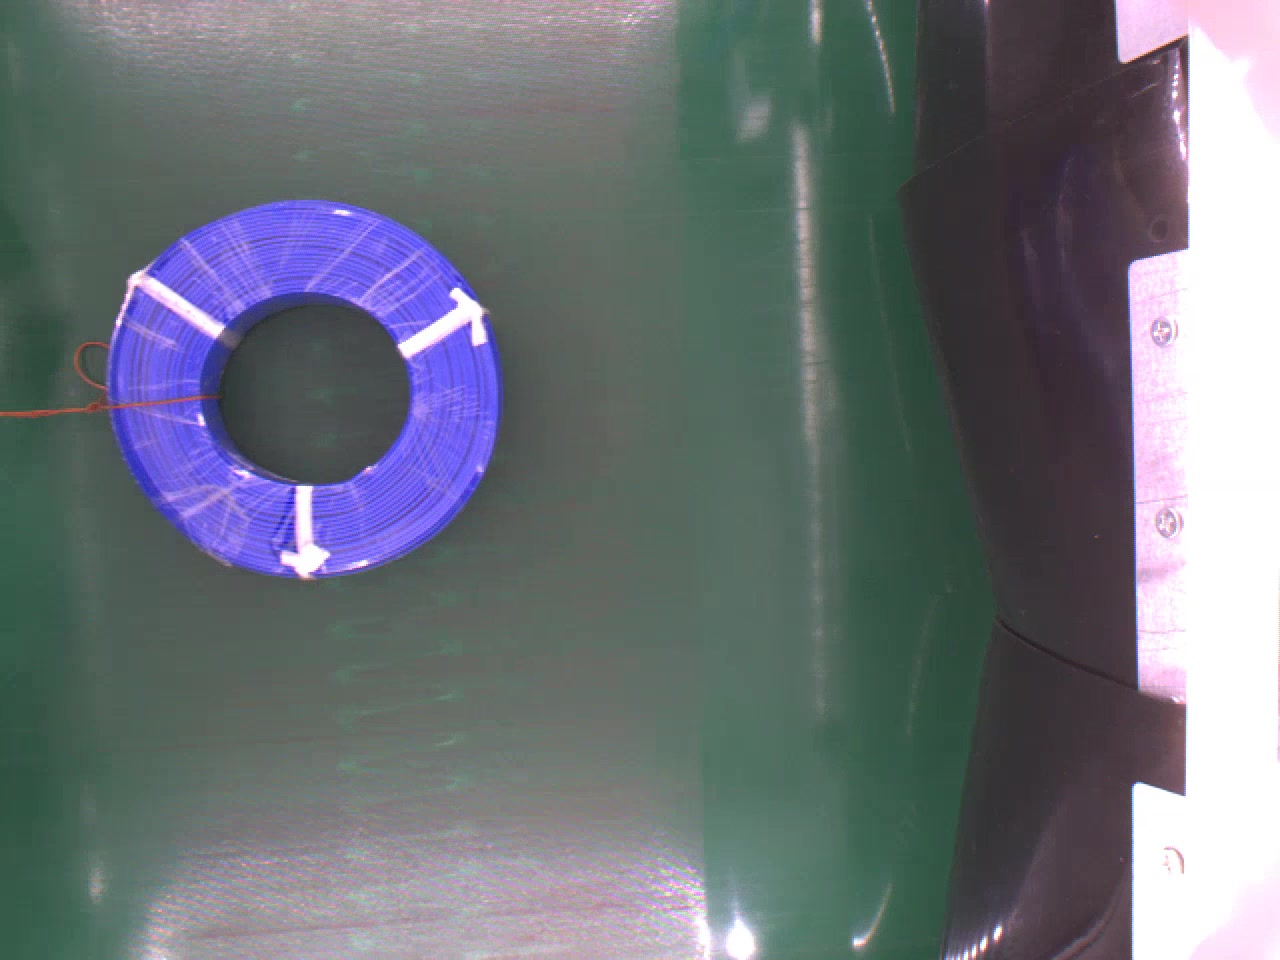blue: (106, 199, 505, 593)
